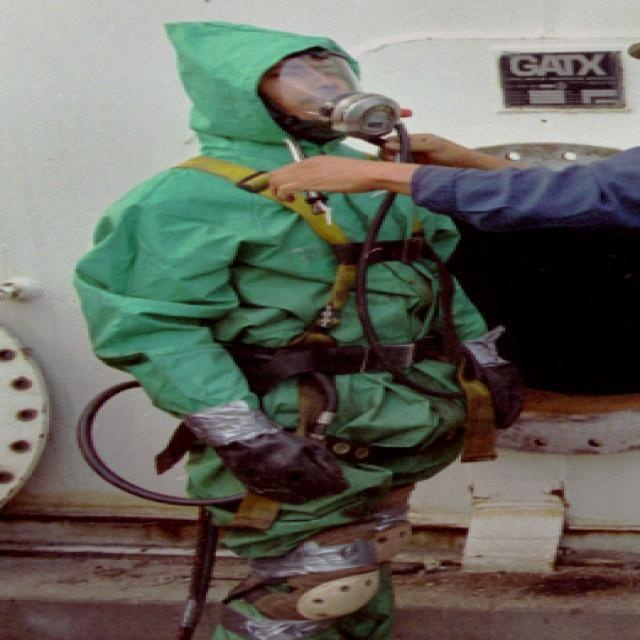Arnes_seguridad: (165, 148, 491, 389)
